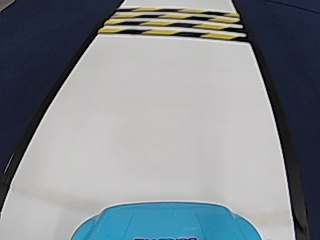bump: (115, 6, 230, 43)
